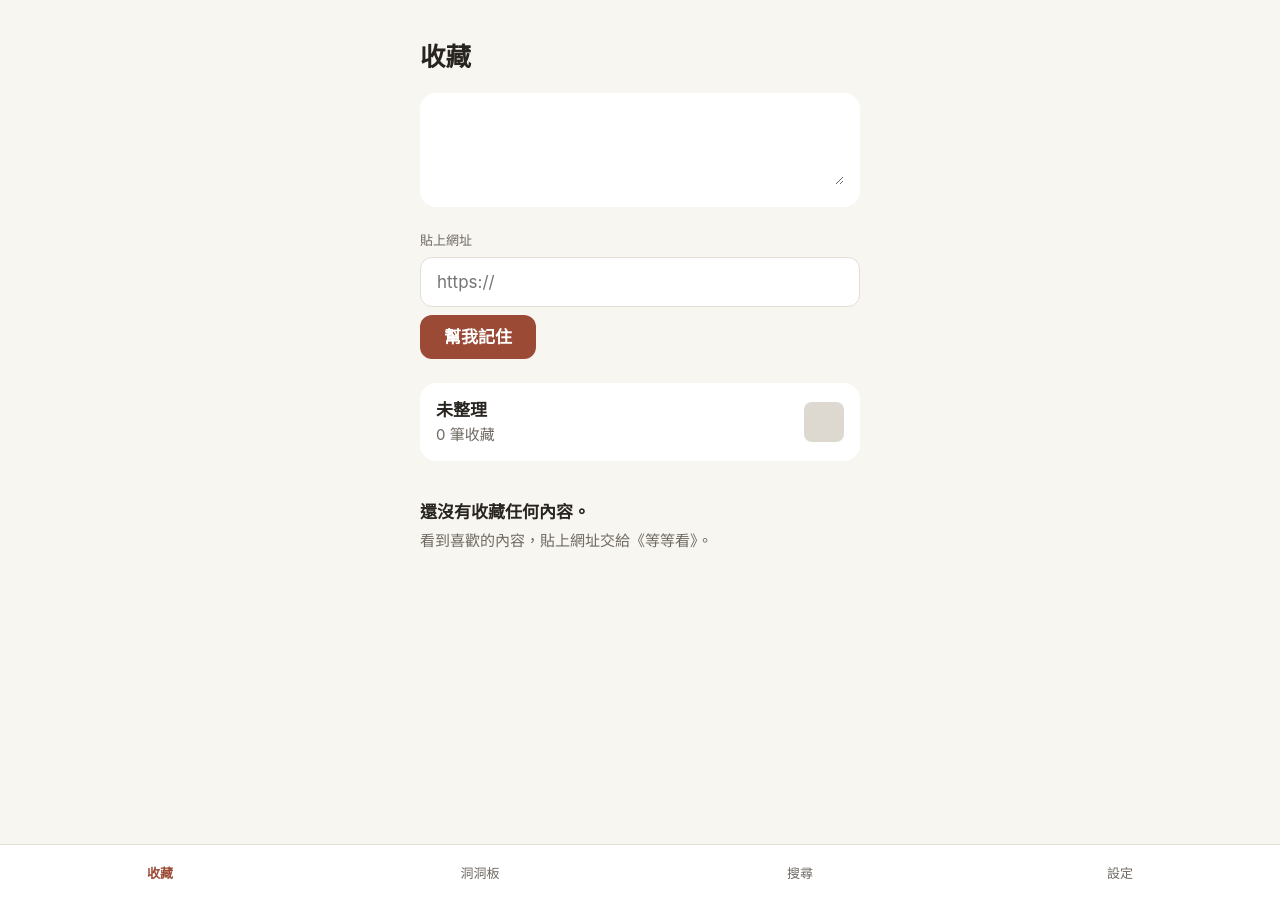
it: Home paste-URL collection flow › creates a bookmark from a valid URL and reflects it in the 未整理 category card, replacing the empty state
Expected: the text "還沒有收藏任何內容。" is shown, [420,501,590,523]
Expected: the link "未整理 0 筆收藏" is shown, [420,383,860,461]
Type "https://example.com/a" into the field labelled "貼上網址".
click(640, 282); type("https://example.com/a")  # box [420,257,860,307]
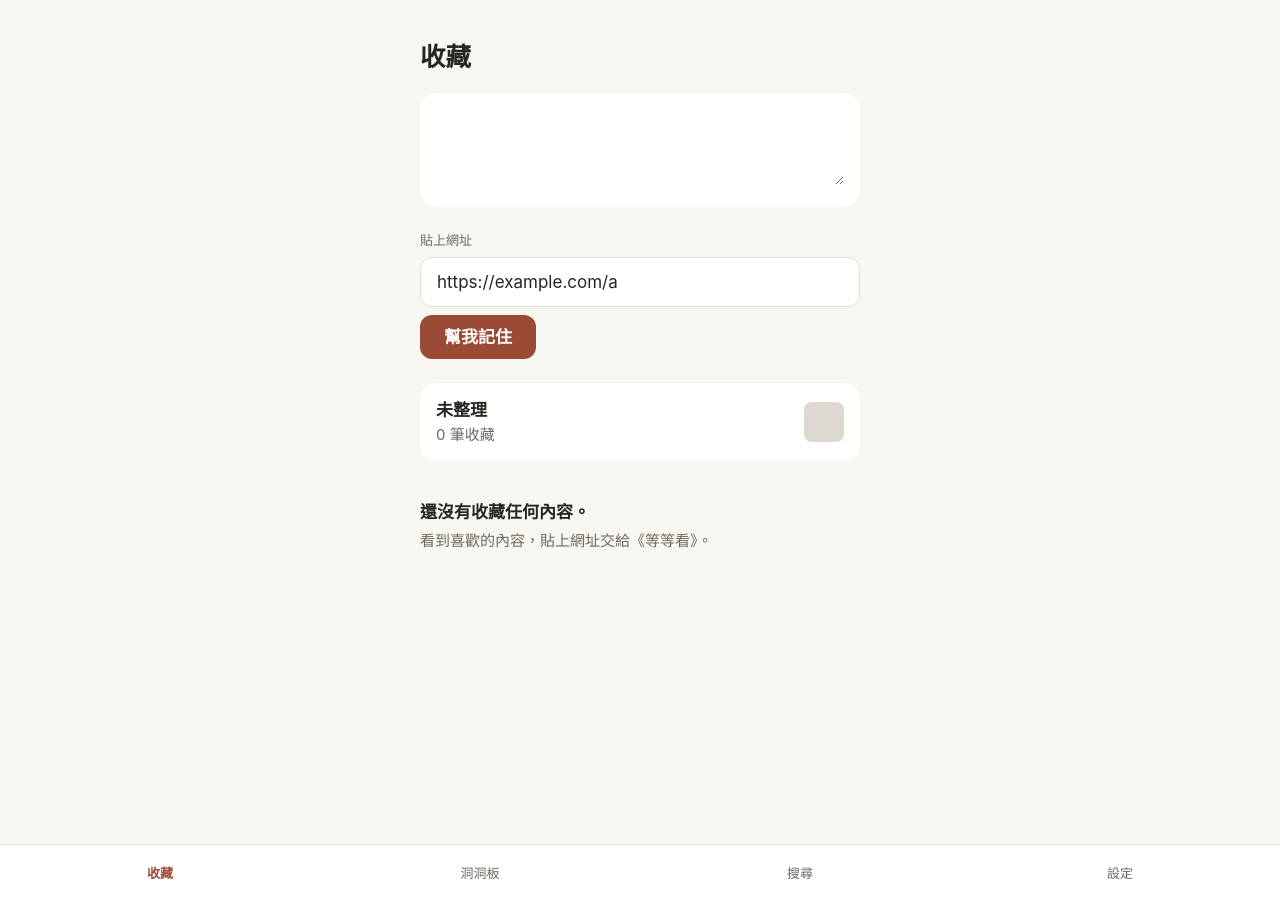
Click the button "幫我記住".
click(478, 337)  # box [420,315,536,359]
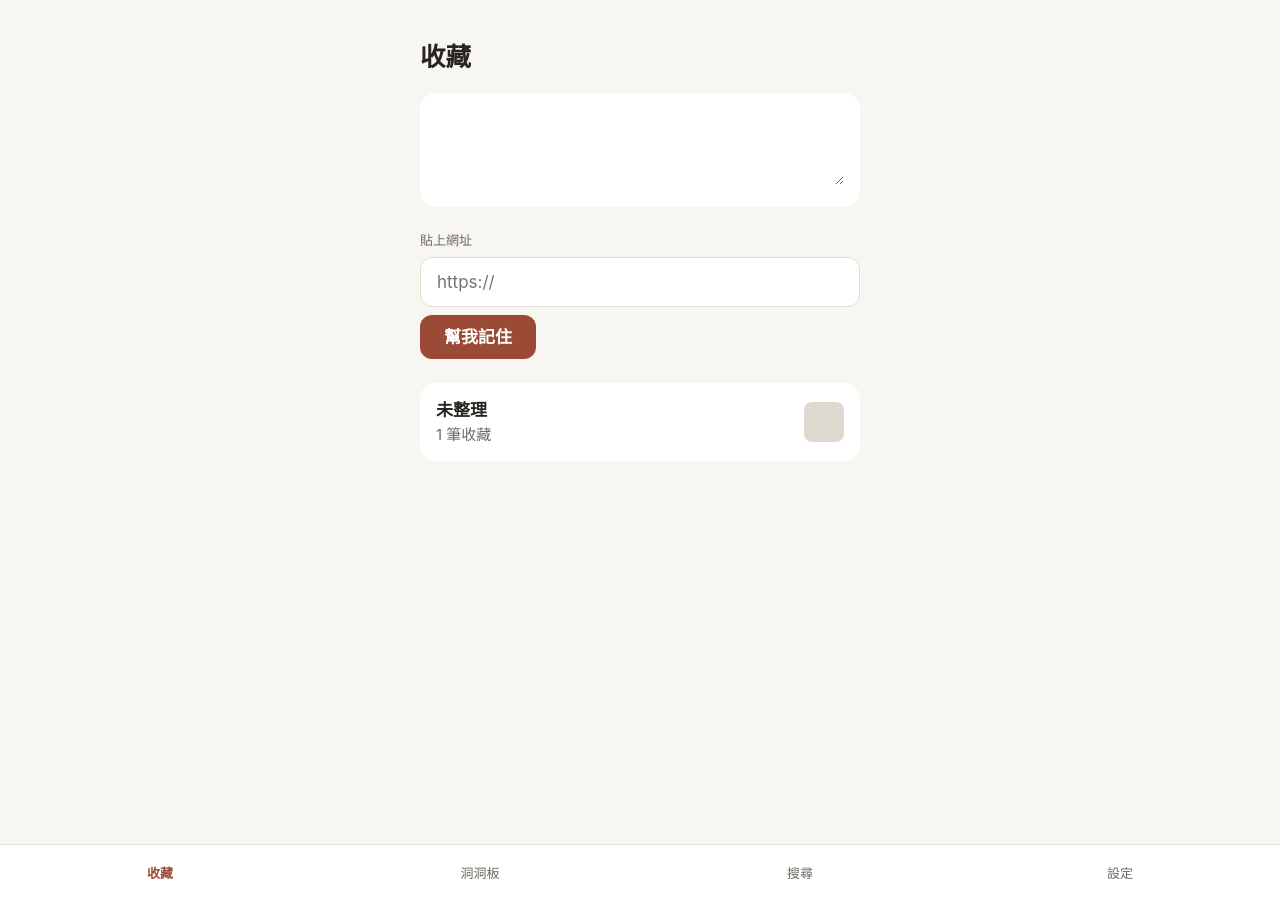
Result: the text "1 筆收藏" is shown at [436,425,491,445]
Result: the text "還沒有收藏任何內容。" is gone
